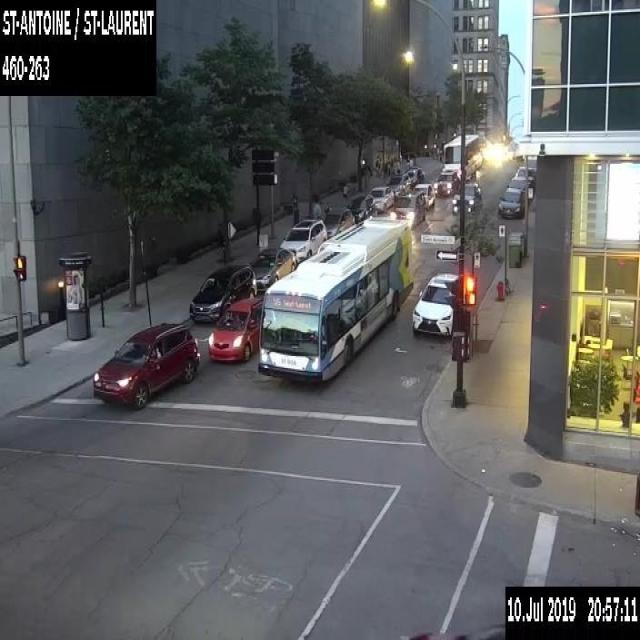bus: (257, 215, 412, 382), (443, 133, 480, 180)
pedestrian: (340, 181, 349, 200), (313, 198, 321, 218), (324, 201, 332, 214)
vehicle: (92, 320, 197, 407), (189, 264, 256, 322), (208, 296, 264, 362), (411, 271, 455, 333), (278, 218, 327, 262), (248, 246, 294, 292), (390, 190, 426, 228), (451, 181, 481, 214), (323, 206, 354, 237), (348, 192, 376, 223), (497, 184, 524, 215), (433, 169, 459, 196), (369, 185, 394, 212), (411, 182, 435, 210), (385, 172, 410, 194), (512, 165, 533, 188), (406, 166, 423, 186)
